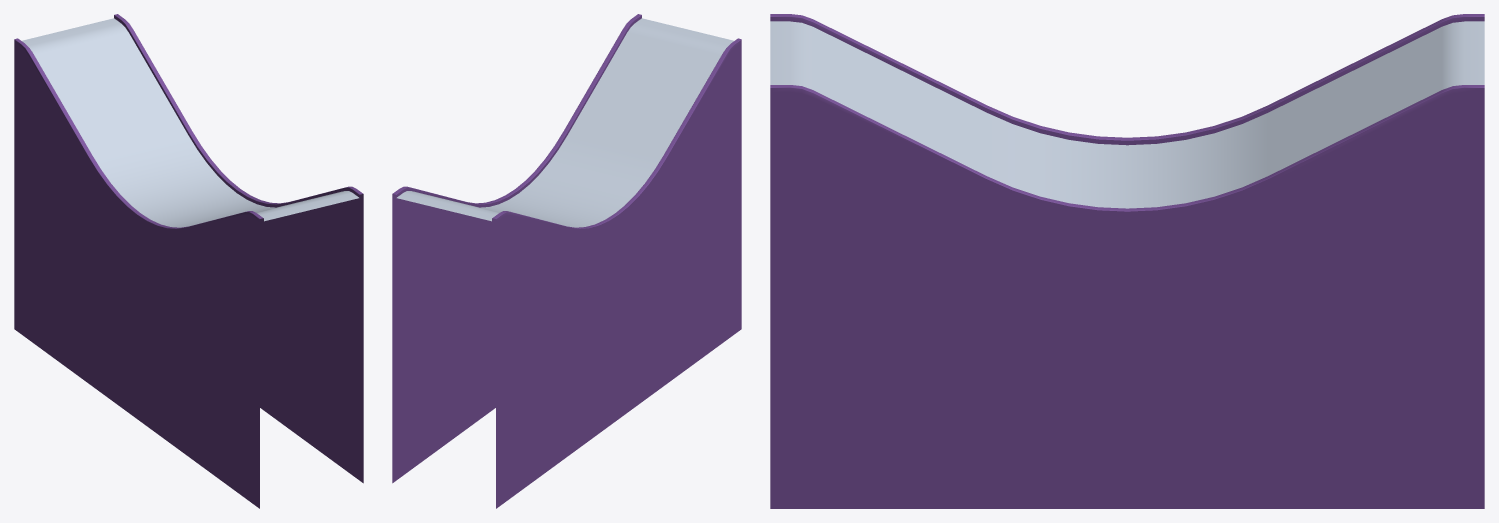
File: SM_Platform_Curve.fbx
The picture shows the model from 3 angles, left to right: view 1: azimuth 30°, elevation 25°; view 2: azimuth 150°, elevation 25°; view 3: azimuth 270°, elevation 25°; orthographic projection. The views are drawn at different scales.
Parts seen in each view (by area): view 1: SM_Platform_Curve; view 2: SM_Platform_Curve; view 3: SM_Platform_Curve.
Part boxes in pixels (x1,y1,x2,y2): SM_Platform_Curve: (14,14,363,508); SM_Platform_Curve: (392,14,741,508); SM_Platform_Curve: (770,14,1484,508).
Bounding box in the file's own units: 650 × 1734 × 2663.
